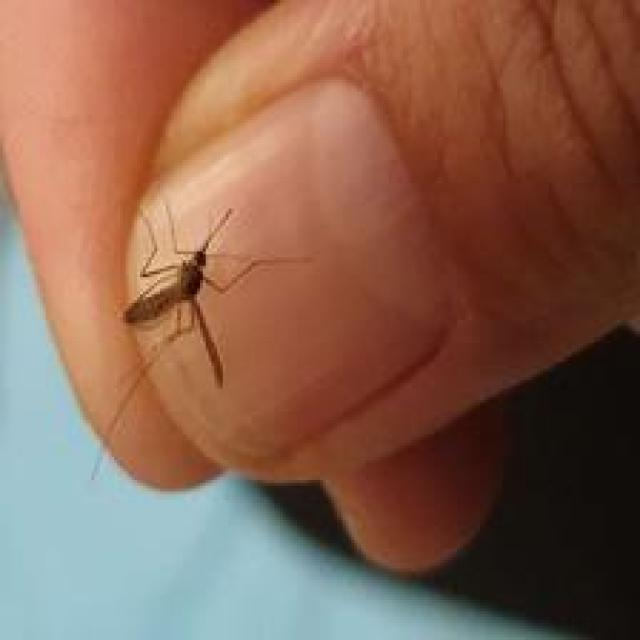Culex: (89, 200, 314, 480)
